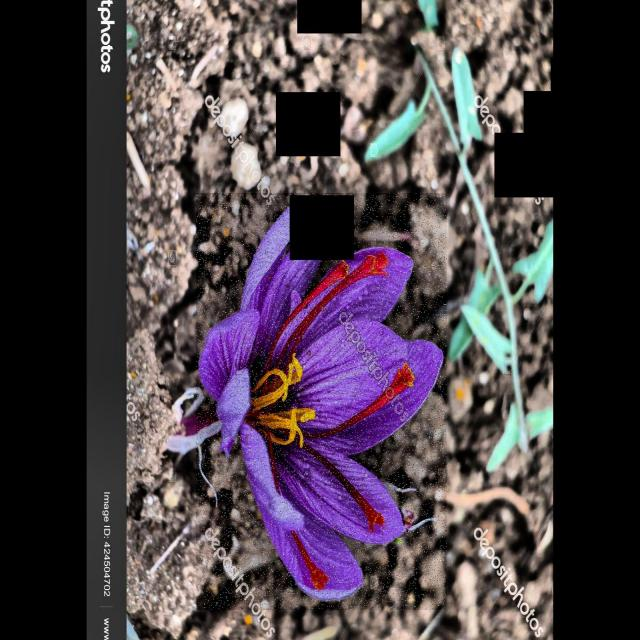Flower: (196, 193, 447, 610)
stigma: (276, 248, 390, 386), (261, 256, 351, 392), (301, 363, 416, 441), (302, 442, 386, 536), (290, 528, 330, 594)
